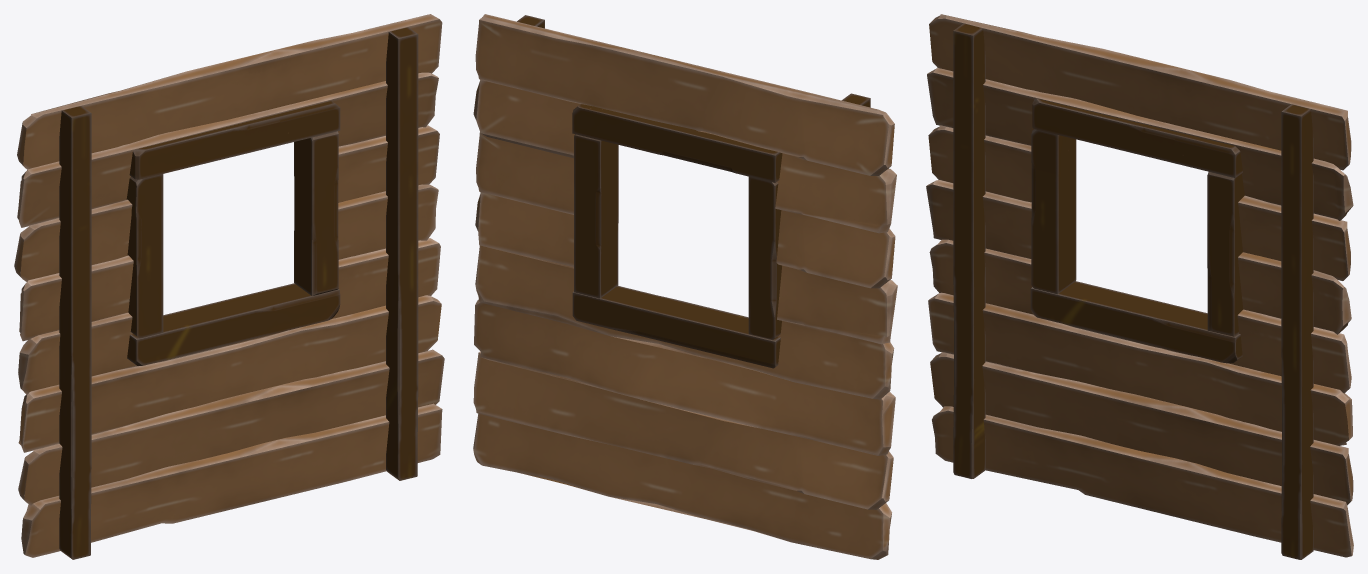
Rendered from WoodWallWindow.fbx.
3 views of the same model, side by side, from view 1: azimuth 30°, elevation 25°; view 2: azimuth 150°, elevation 25°; view 3: azimuth 330°, elevation 25° (orthographic).
Visible parts, largest first — view 1: WoodWall.export; view 2: WoodWall.export; view 3: WoodWall.export.
Boxes of the visible parts, x1=… form: WoodWall.export: x1=14, y1=14, x2=444, y2=559; WoodWall.export: x1=473, y1=14, x2=897, y2=559; WoodWall.export: x1=926, y1=14, x2=1353, y2=559.
Size of the model in its own units: 98.47 by 101 by 10.08.
1 material, 1 textured.
